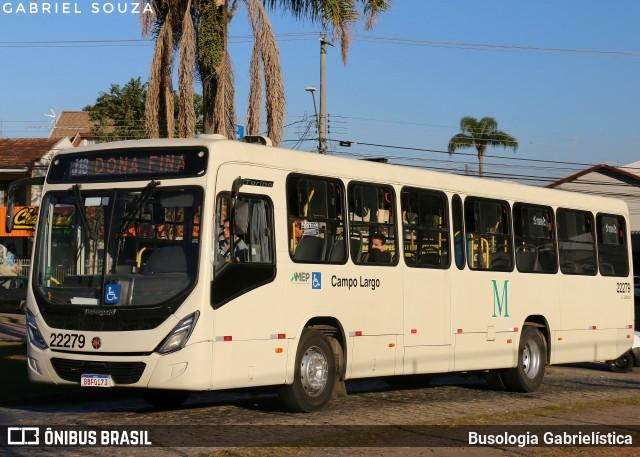DONA FINA: (92, 151, 189, 176)
